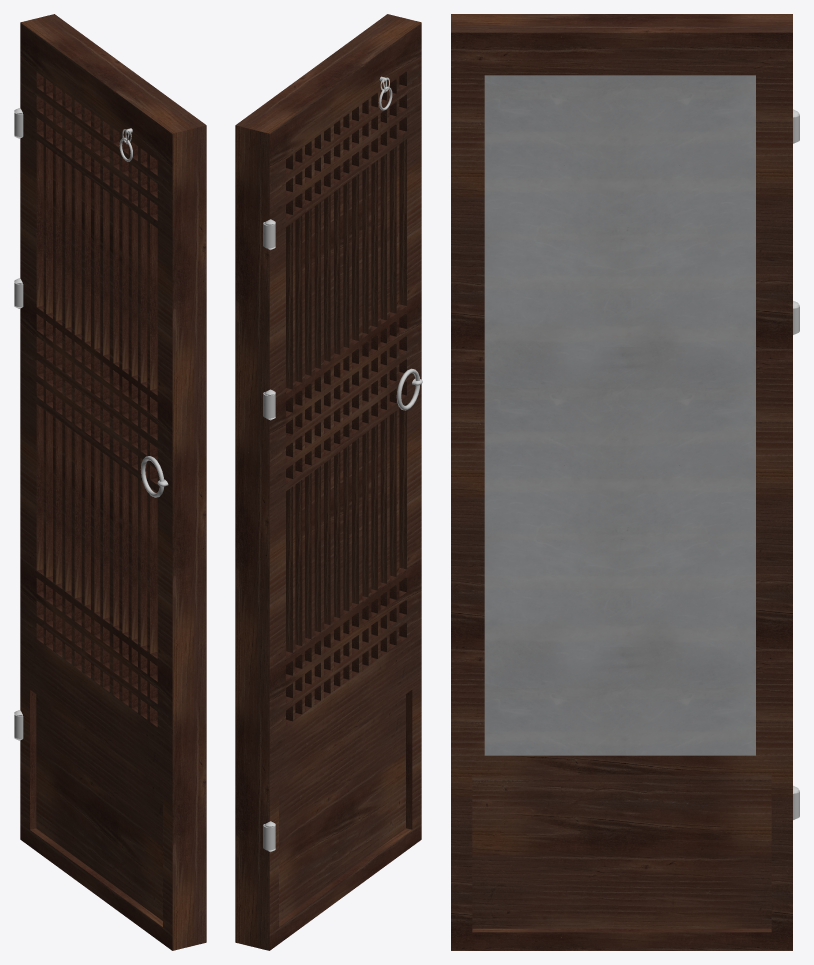
The model's file is SM_D_Wood_9.fbx.
3 renders of one model, left to right at view 1: azimuth 30°, elevation 25°; view 2: azimuth 150°, elevation 25°; view 3: azimuth 270°, elevation 25°, orthographic. The views are drawn at different scales.
Parts seen in each view (by area): view 1: SM_D_Wood_9; view 2: SM_D_Wood_9; view 3: SM_D_Wood_9.
Boxes of the visible parts, box(x1,y1,x2,y2) form: SM_D_Wood_9: box(14, 14, 206, 950); SM_D_Wood_9: box(235, 14, 422, 950); SM_D_Wood_9: box(451, 14, 799, 950).
Bounding box in the file's own units: 12.53 × 81.71 × 237.
